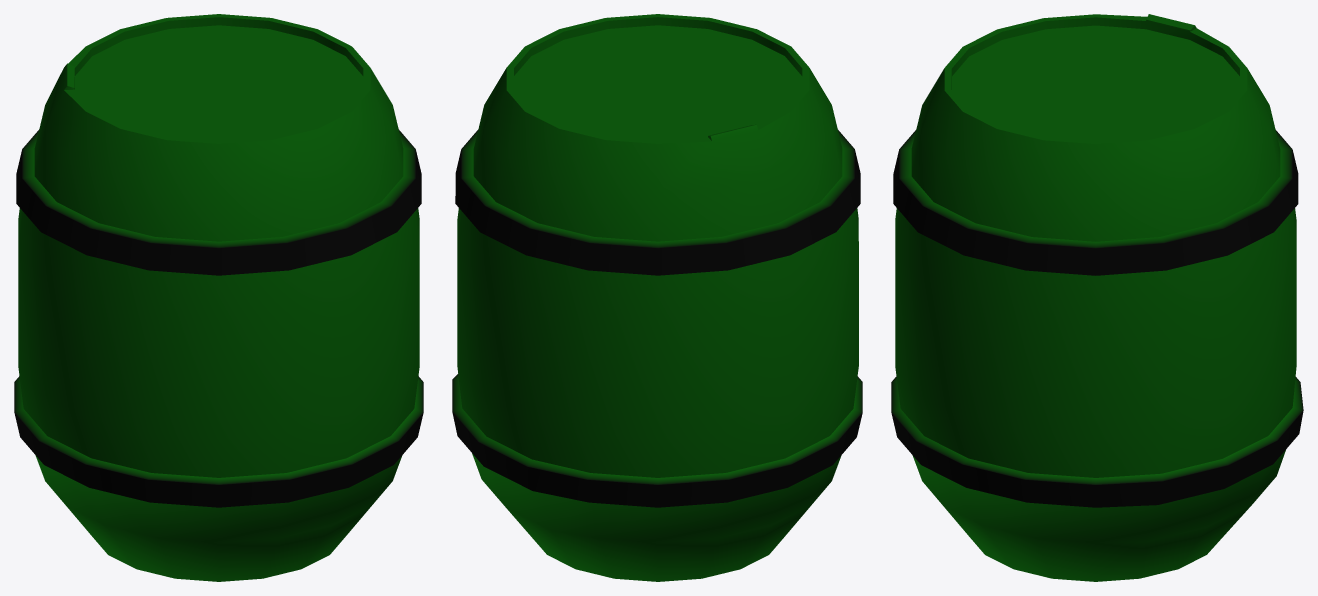
File: barrel01.FBX
The picture shows the model from 3 angles, left to right: view 1: azimuth 30°, elevation 25°; view 2: azimuth 150°, elevation 25°; view 3: azimuth 270°, elevation 25°; orthographic projection.
Parts seen in each view (by area): view 1: SM_barrel01_0; view 2: SM_barrel01_0; view 3: SM_barrel01_0.
Part boxes in pixels (x1,y1,x2,y2): SM_barrel01_0: (14, 14, 423, 581); SM_barrel01_0: (452, 14, 862, 581); SM_barrel01_0: (891, 14, 1303, 581).
Bounding box in the file's own units: 59.86 × 59.41 × 72.
